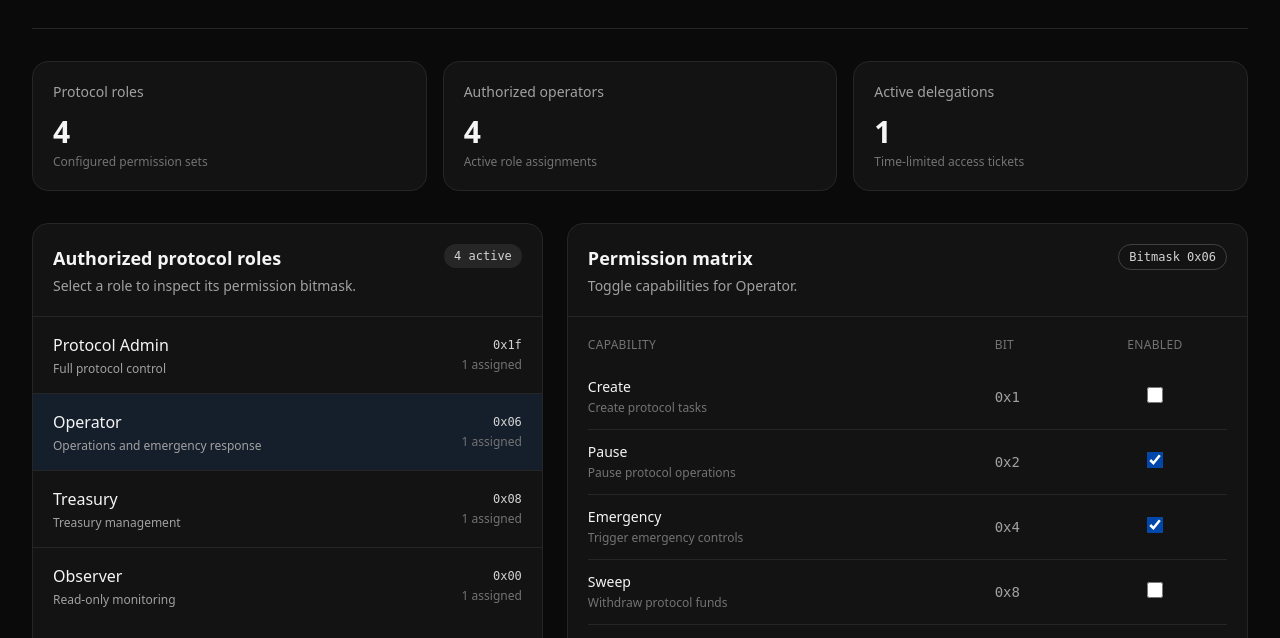
RbacDashboard › edits a role's permission bitmask and adds an audit event
Click the checkbox named "Sweep permission": (1155,590) [1147,582,1163,598]
(page scrolled)
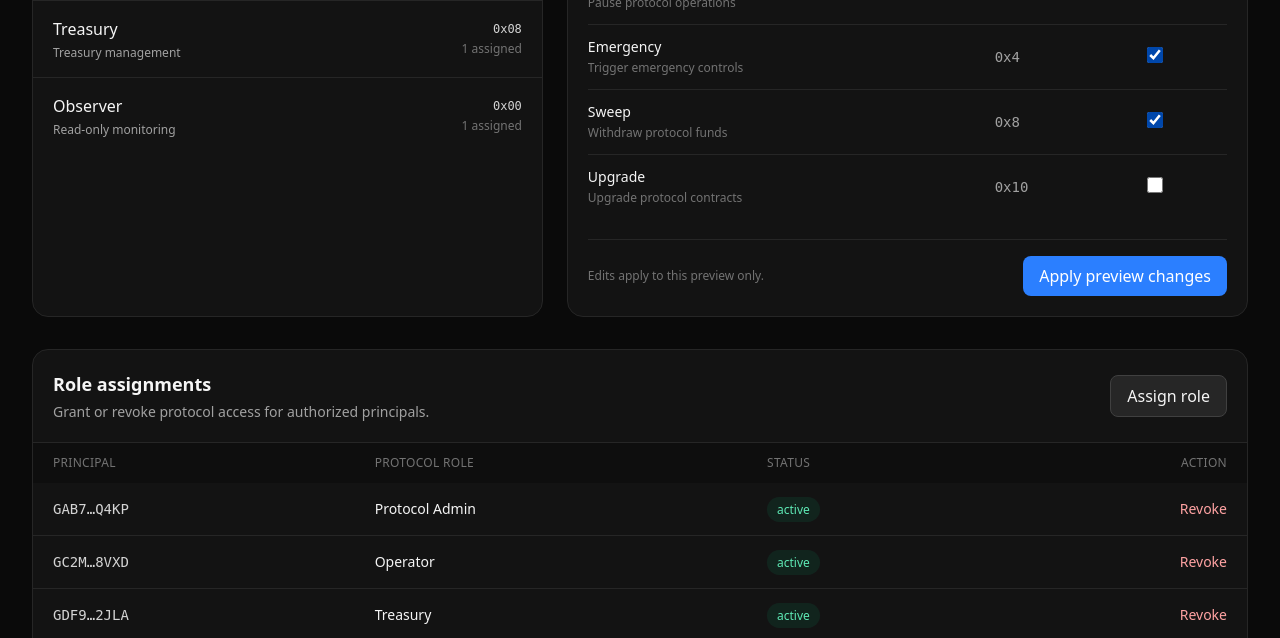
Click the button "Apply preview changes": (1125,276) [1023,256,1227,296]
(page scrolled)
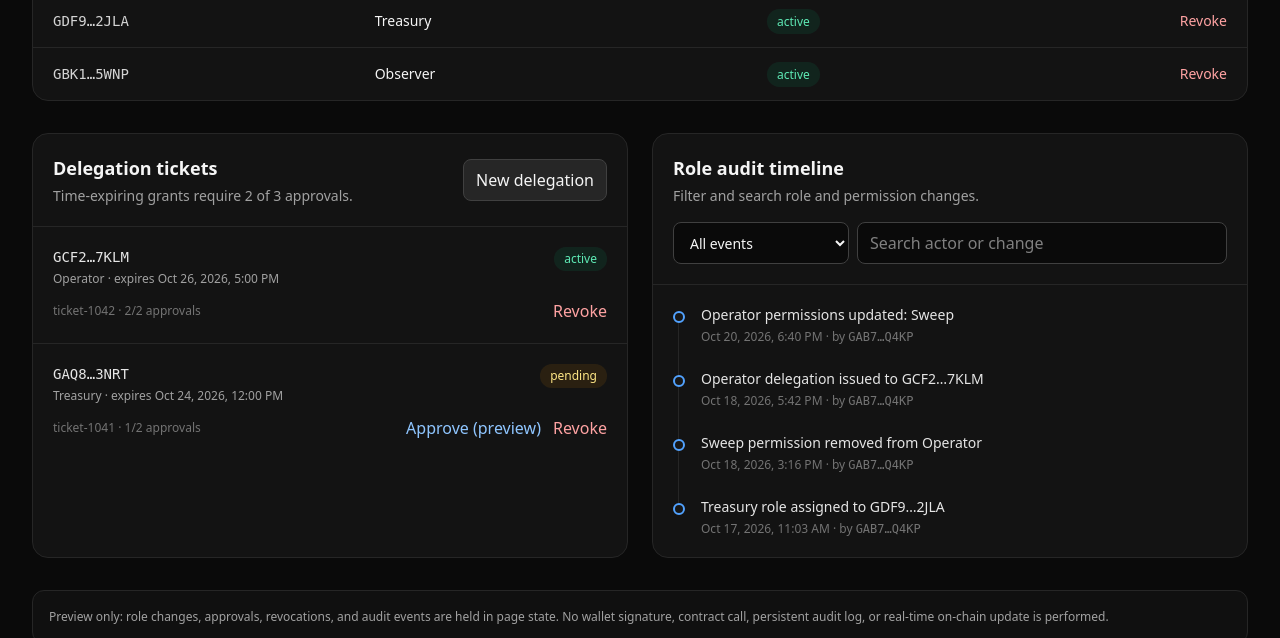
Result: the text "Operator permissions updated: Sweep" is shown at [701,305,954,325]
